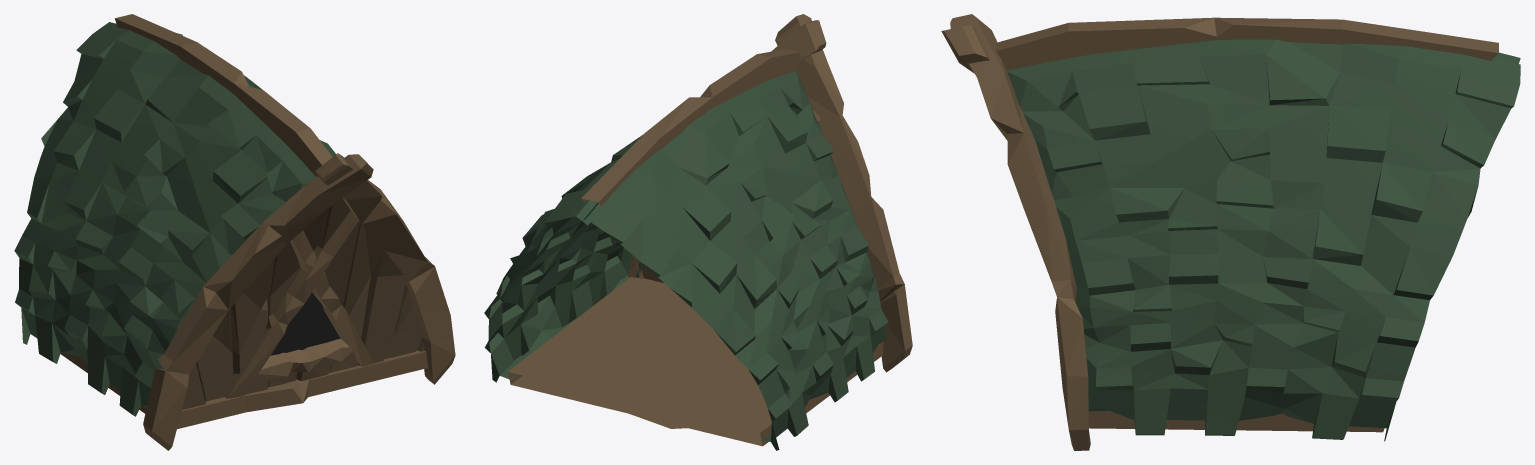
The model's file is Techo_02.glb.
The picture shows the model from 3 angles, left to right: view 1: azimuth 30°, elevation 25°; view 2: azimuth 150°, elevation 25°; view 3: azimuth 270°, elevation 25°; orthographic projection. The views are drawn at different scales.
Parts seen in each view (by area): view 1: SM_Bld_Roof_Window_01; view 2: SM_Bld_Roof_Window_01; view 3: SM_Bld_Roof_Window_01.
Part boxes in pixels (x1=…): SM_Bld_Roof_Window_01: x1=14, y1=14, x2=455, y2=450; SM_Bld_Roof_Window_01: x1=484, y1=14, x2=912, y2=450; SM_Bld_Roof_Window_01: x1=941, y1=14, x2=1520, y2=450.
Size of the model in its own units: 3.03 by 2.8 by 4.15.
1 material, 1 textured.
